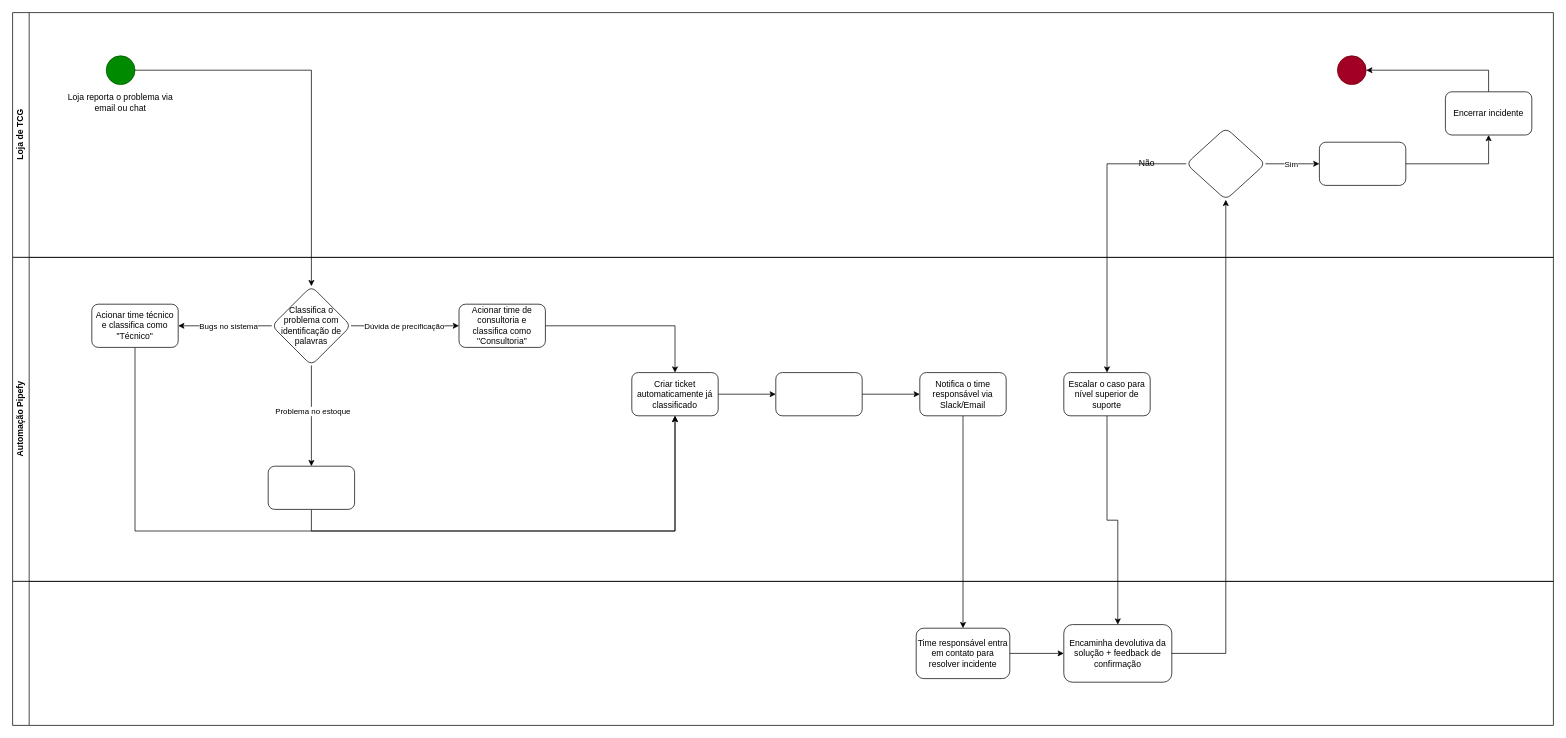
Image size: 1566x738. Some labels were removed from this diagram. The box of each missing label's shape, as (x1, y1, x2, y2) in pixels:
Acionar time de operações e classifica como "Técnico": (267, 465, 355, 509)
Encaminhar confirmação: (1319, 141, 1406, 185)
Enviar confirmação automática: (775, 372, 862, 416)
Equipe RTR: (12, 581, 1553, 725)
Problema resolvido?: (1185, 127, 1265, 200)
